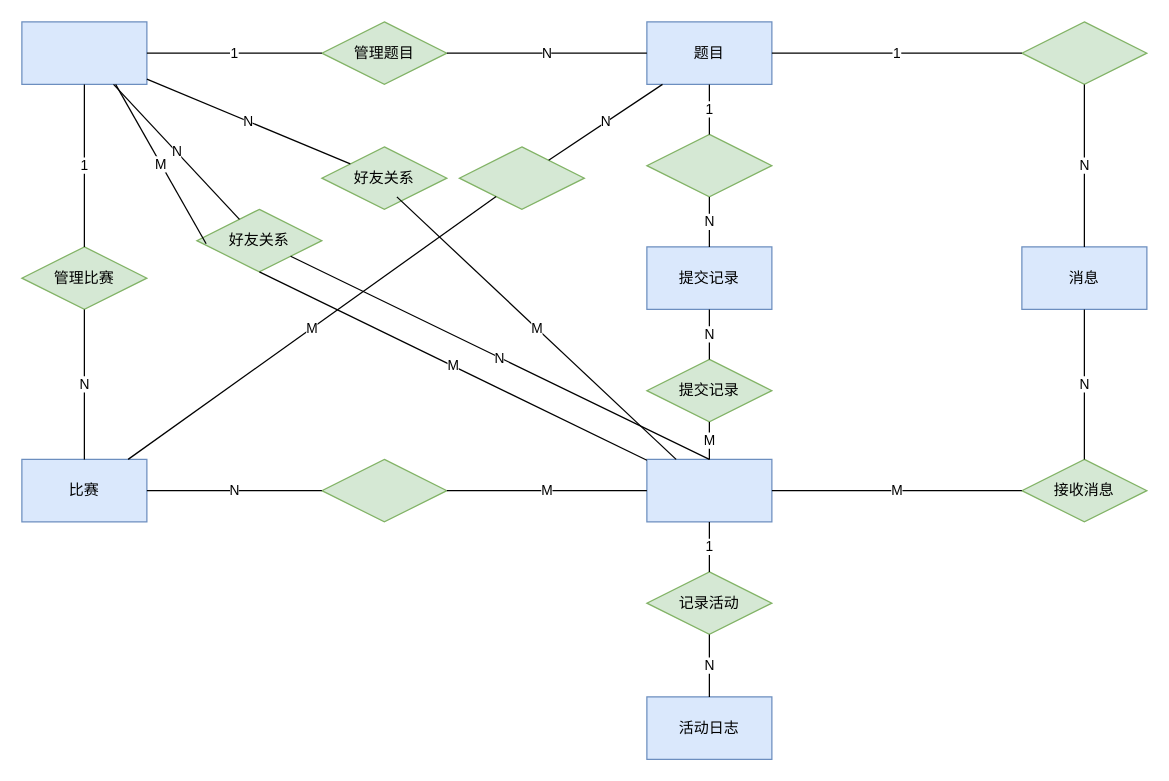
This 1169x781 diagram has some shape labels left out. The shapes that lost their labels are listed below. From the top down, each one's centre as x and y in pixels, then its label:
At (84,52): "管理员".
At (1084,52): "题目讨论".
At (521,177): "包含题目".
At (709,165): "题目提交".
At (384,490): "参与比赛".
At (709,490): "用户".
